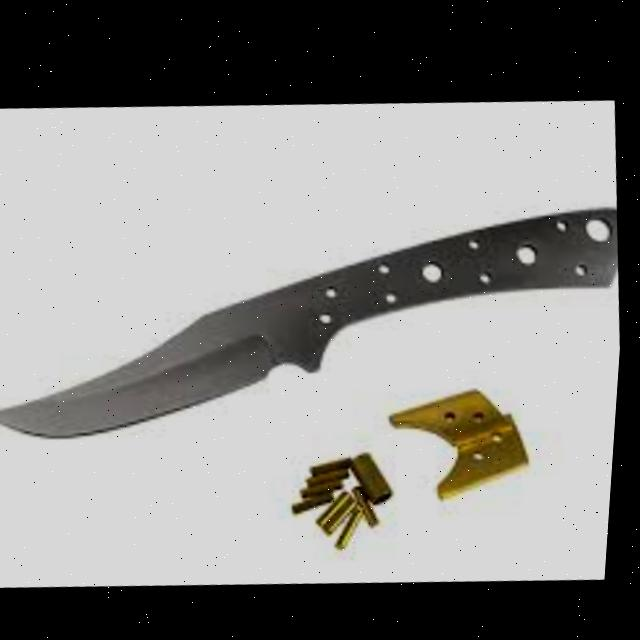Knife: (0, 157, 632, 475)
